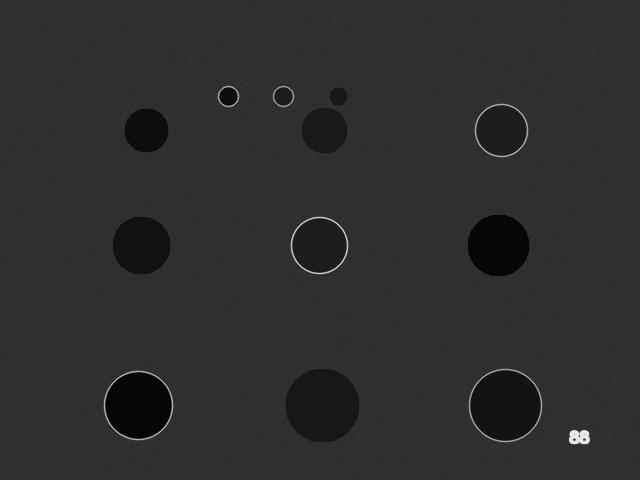hole: (285, 368, 359, 442), (469, 369, 541, 441), (104, 371, 172, 439), (467, 214, 529, 276), (112, 216, 170, 274), (291, 217, 347, 273), (475, 104, 527, 156), (301, 107, 347, 153), (124, 108, 168, 152), (218, 86, 238, 106), (273, 86, 293, 106), (329, 87, 347, 105)
